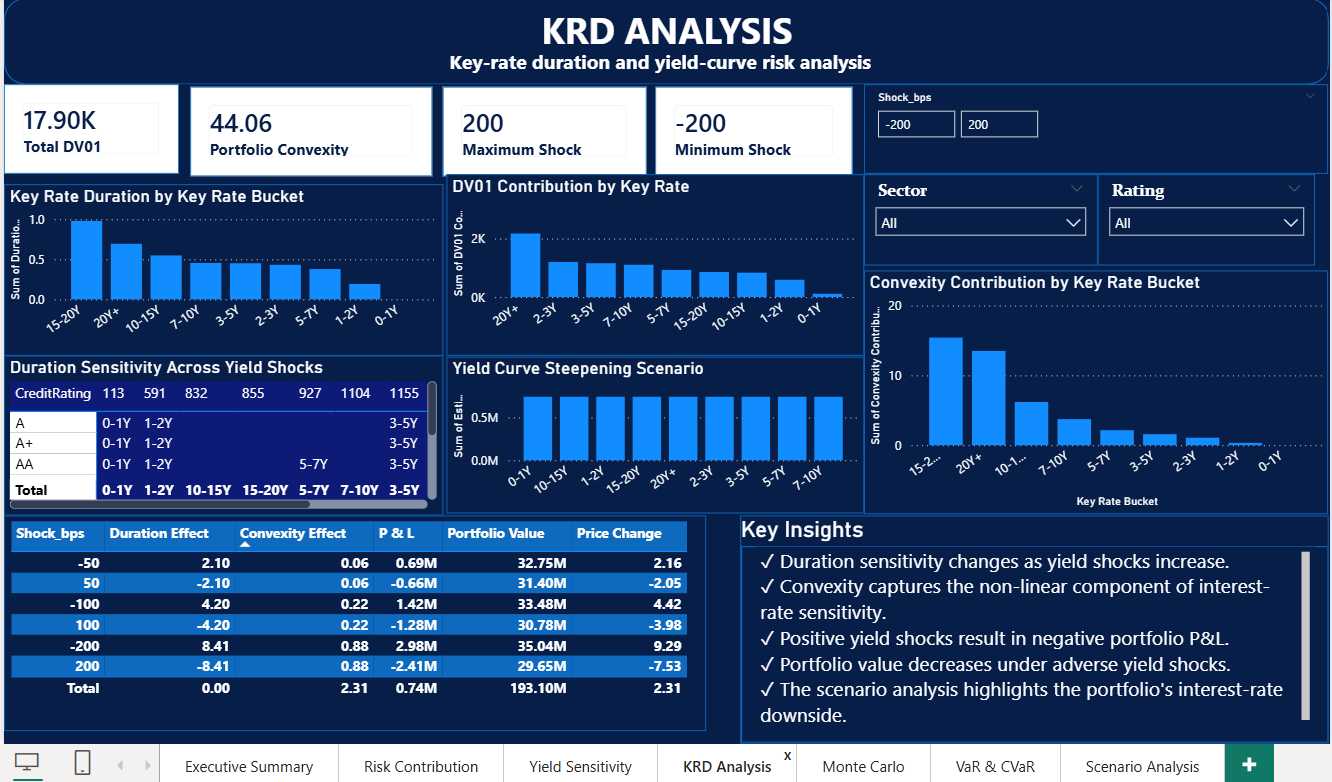

Layout of this report page (visuals, bound fields, positions):
{"tool":"powerbi","page":{"name":"KRD Analysis","canvas":[1280,720],"ordinal":3},"visuals":[{"type":"shape","box":[0,0,1279.7,83.5],"z":0},{"type":"textbox","title":"Key-rate duration and yield-curve risk analysis   ","box":[247.4,48.9,772.2,28.4],"z":1000},{"type":"cardVisual","fields":{"Data":["Portfolio Summary.Total DV01 Contribution"]},"box":[0,83.5,168.6,86.7],"z":2000},{"type":"cardVisual","fields":{"Data":["Portfolio Summary.Portfolio Convexity"]},"box":[179.7,85.1,233.2,86.7],"z":3000},{"type":"cardVisual","fields":{"Data":["Portfolio Summary.Maximum Shock"]},"box":[423.9,85.1,197,86.7],"z":4000},{"type":"cardVisual","fields":{"Data":["Portfolio Summary.Minimum Shock"]},"box":[628.8,85.1,190.7,86.7],"z":5000},{"type":"pivotTable","title":"Duration Sensitivity Across Yield Shocks","fields":{"Columns":["RISK EXPOSURE BY KEY RATE BUCKET (Risk_Contribution).DV01 Contribution"],"Rows":["bond_portfolio_data1.CreditRating"],"Values":["Min(RISK EXPOSURE BY KEY RATE BUCKET (Risk_Contribution).Key Rate Bucket)"]},"box":[0,345.1,423.9,154.4],"z":6000},{"type":"clusteredColumnChart","title":"Yield Curve Steepening Scenario","fields":{"Category":["RISK EXPOSURE BY KEY RATE BUCKET (Risk_Contribution).Key Rate Bucket"],"Y":["Sum(Scenario Summary.Estimated_PnL_INR)"]},"box":[427.1,346.7,403.5,151.3],"z":7000},{"type":"clusteredColumnChart","title":"DV01 Contribution by Key Rate","fields":{"Category":["RISK EXPOSURE BY KEY RATE BUCKET (Risk_Contribution).Key Rate Bucket"],"Y":["Sum(RISK EXPOSURE BY KEY RATE BUCKET (Risk_Contribution).DV01 Contribution)"]},"box":[427.1,170.2,403.5,174.9],"z":8000},{"type":"clusteredColumnChart","title":"Key Rate Duration by Key Rate Bucket","fields":{"Category":["RISK EXPOSURE BY KEY RATE BUCKET (Risk_Contribution).Key Rate Bucket"],"Y":["Sum(RISK EXPOSURE BY KEY RATE BUCKET (Risk_Contribution).Duration Contribution)"]},"box":[0,179.7,423.9,165.5],"z":9000},{"type":"columnChart","title":"Convexity Contribution by Key Rate Bucket","fields":{"Category":["RISK EXPOSURE BY KEY RATE BUCKET (Risk_Contribution).Key Rate Bucket"],"Y":["Sum(RISK EXPOSURE BY KEY RATE BUCKET (Risk_Contribution).Convexity Contribution)"]},"box":[830.5,263.2,449.2,234.8],"z":10000},{"type":"slicer","fields":{"Values":["Yield Sensitivity.Shock_bps"]},"box":[830.5,83.5,449.2,86.7],"z":11000},{"type":"slicer","fields":{"Values":["Sector Risk.Sector"]},"box":[830.5,170.2,225.4,88.3],"z":12000},{"type":"slicer","fields":{"Values":["Rating Risk.CreditRating"]},"box":[1055.9,170.2,209.6,88.3],"z":13000},{"type":"tableEx","title":"Portfolio Value Sensitivity","fields":{"Values":["Yield Sensitivity.Shock_bps","Sum(Yield Sensitivity.Duration_Effect_%)","Sum(Yield Sensitivity.Convexity_Effect_%)","Sum(Yield Sensitivity.Estimated_PnL_INR)","Sum(Yield Sensitivity.Estimated_Portfolio_Value)","Sum(Yield Sensitivity.Estimated_Price_Change_%)"]},"box":[0,499.6,677.7,208],"z":14000},{"type":"shape","title":"Key Insights","box":[710.8,499.6,568.9,220.6],"z":15000},{"type":"textbox","box":[725,529.5,540.6,178.1],"z":16000}]}

Visuals, with their boxes on the page's 1280x720 design canvas (x1, y1, x2, y2). These are canvas units, not pixel positions in the 1332x782 screenshot, which may show the page scaled, cropped or inside an application window:
shape: detection(0, 0, 1280, 84)
"Key-rate duration and yield-curve risk analysis   " textbox: detection(247, 49, 1020, 77)
cardVisual - Portfolio Summary.Total DV01 Contribution: detection(0, 84, 169, 170)
cardVisual - Portfolio Summary.Portfolio Convexity: detection(180, 85, 413, 172)
cardVisual - Portfolio Summary.Maximum Shock: detection(424, 85, 621, 172)
cardVisual - Portfolio Summary.Minimum Shock: detection(629, 85, 820, 172)
"Duration Sensitivity Across Yield Shocks" pivotTable: detection(0, 345, 424, 500)
"Yield Curve Steepening Scenario" clusteredColumnChart: detection(427, 347, 831, 498)
"DV01 Contribution by Key Rate" clusteredColumnChart: detection(427, 170, 831, 345)
"Key Rate Duration by Key Rate Bucket" clusteredColumnChart: detection(0, 180, 424, 345)
"Convexity Contribution by Key Rate Bucket" columnChart: detection(830, 263, 1280, 498)
slicer - Yield Sensitivity.Shock_bps: detection(830, 84, 1280, 170)
slicer - Sector Risk.Sector: detection(830, 170, 1056, 258)
slicer - Rating Risk.CreditRating: detection(1056, 170, 1266, 258)
"Portfolio Value Sensitivity" tableEx: detection(0, 500, 678, 708)
"Key Insights" shape: detection(711, 500, 1280, 720)
textbox: detection(725, 530, 1266, 708)
